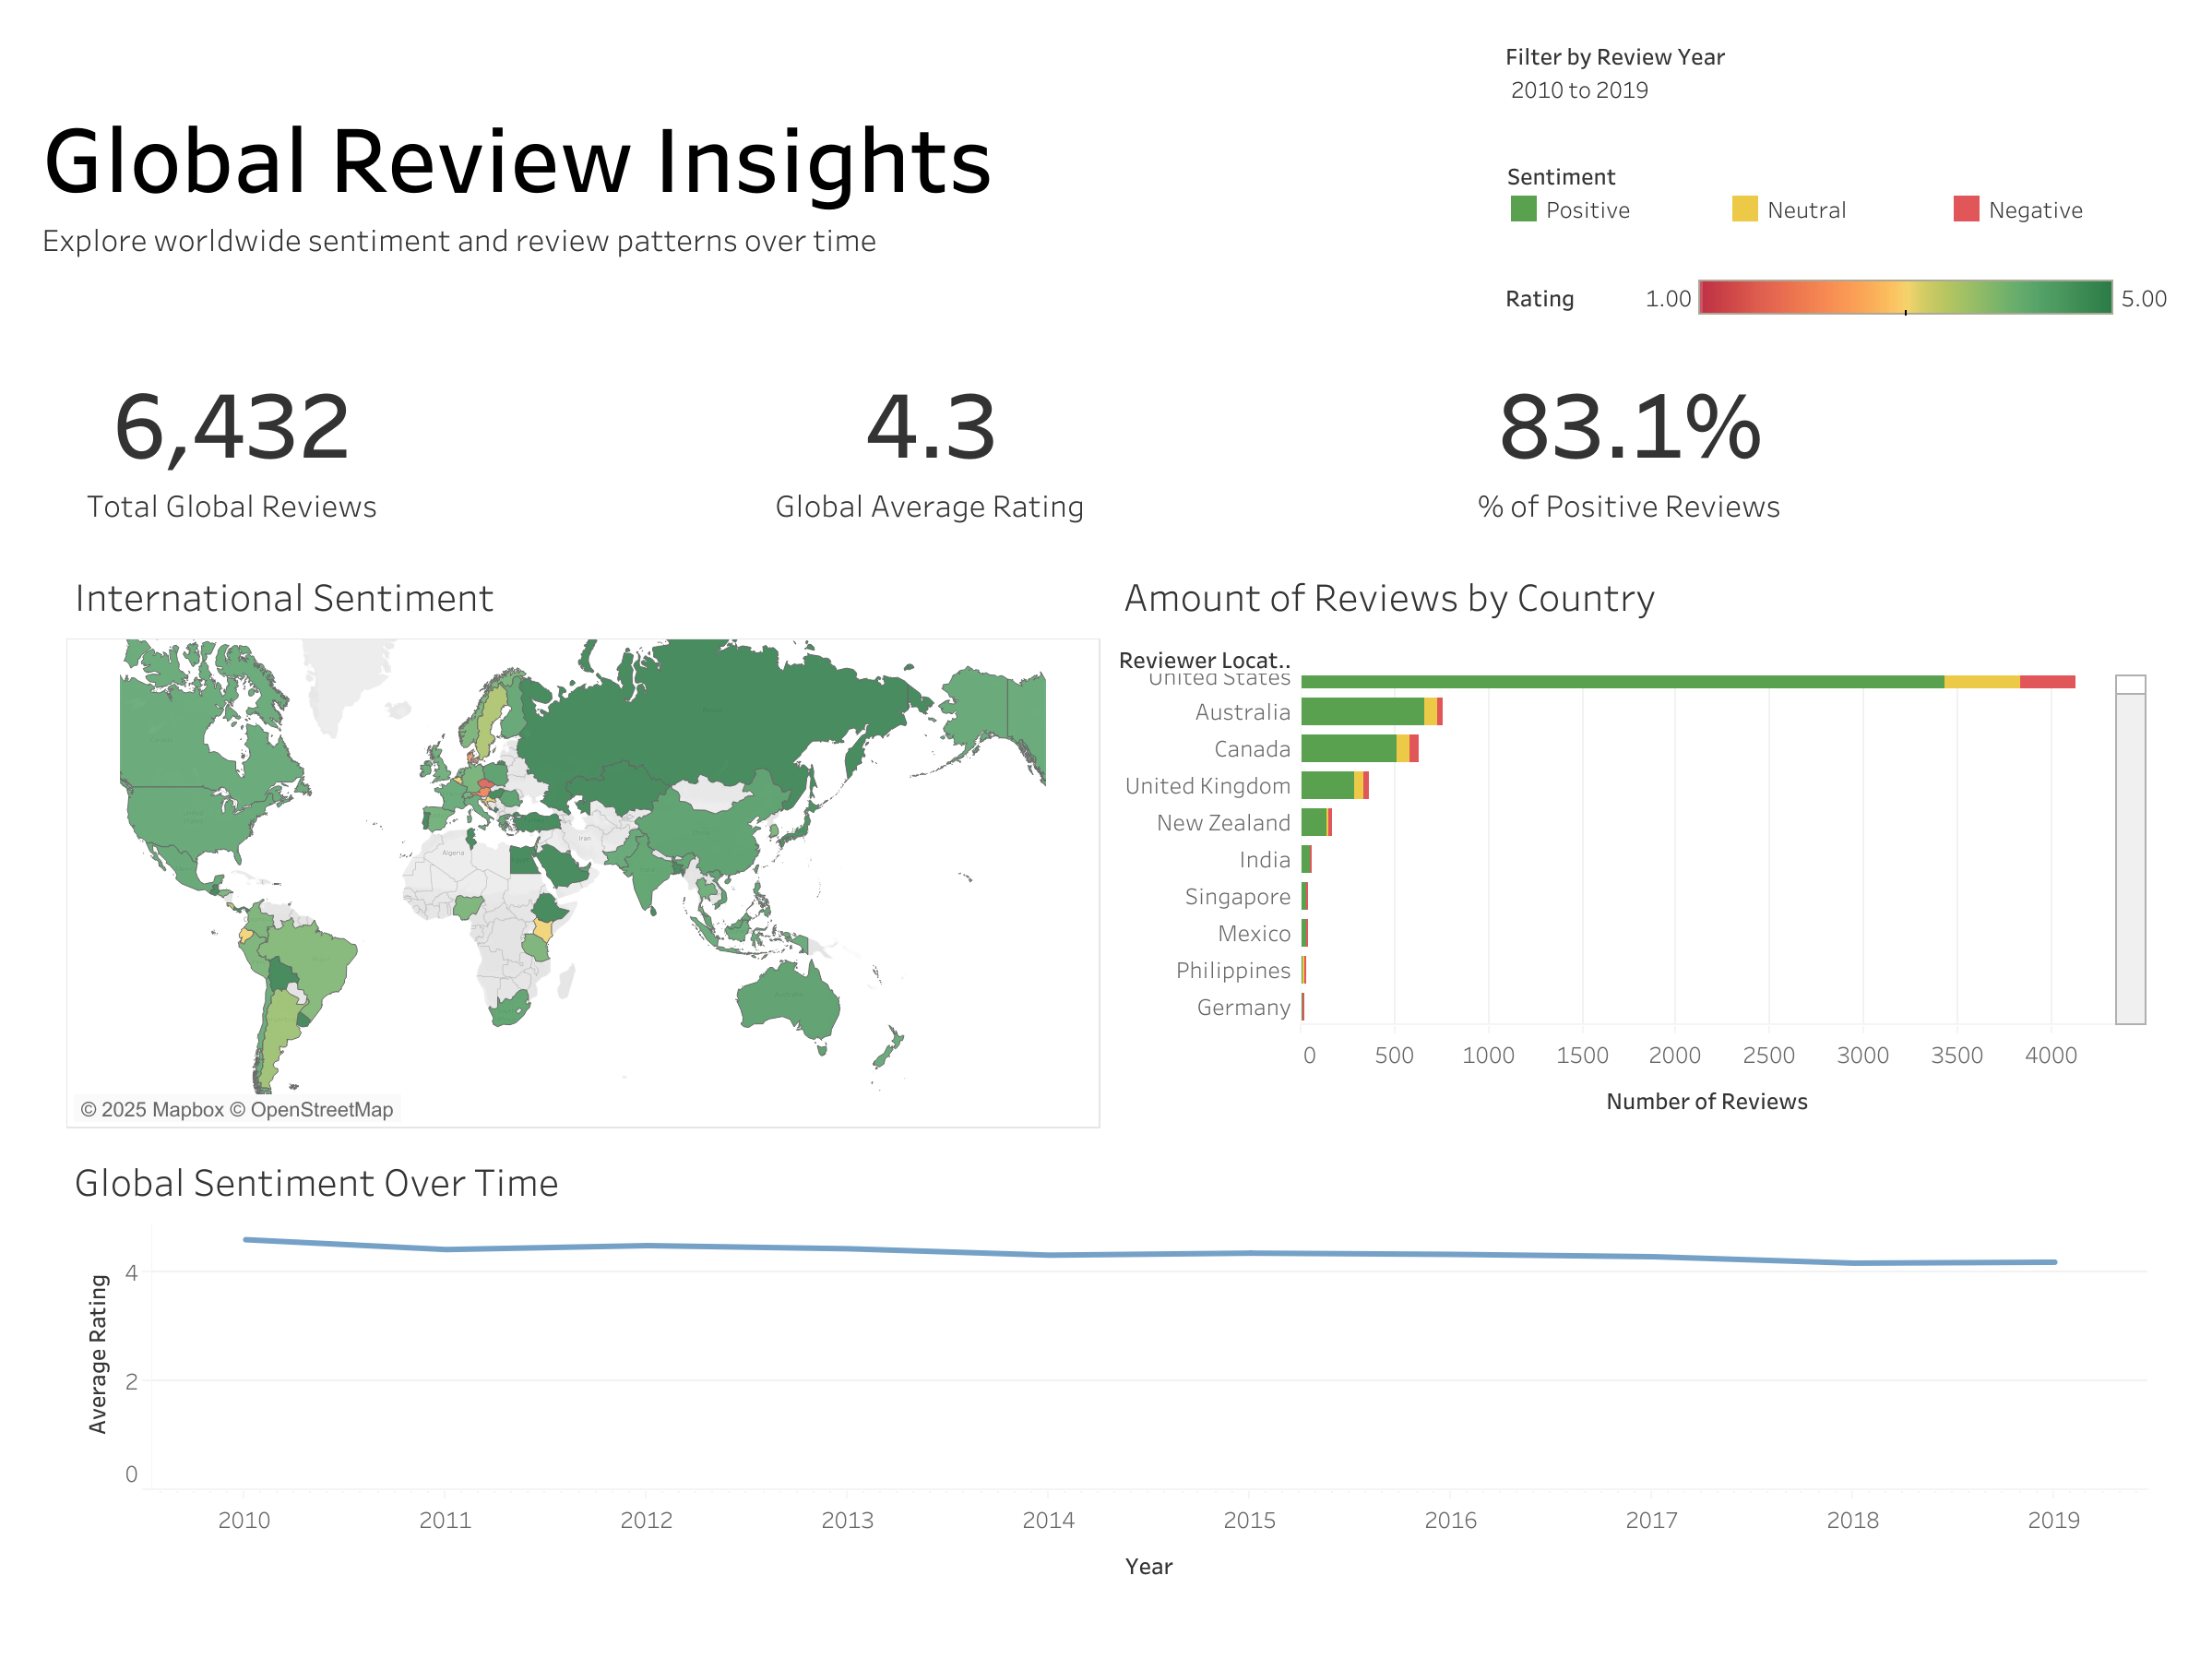

Layout of this report page (visuals, bound fields, positions):
{"tool":"tableau","page":{"name":"Global Overview","canvas":[1200,900],"ordinal":1},"visuals":[{"type":"text","box":[16,16,796.1,159.1]},{"type":"filter","title":"Sentiment by Country","param":"[federated.0jdlttf06a8mla1f0ukgg1rxgpls].[none:Calculation_204139768011210752:qk","box":[812.1,16,371.9,63.8]},{"type":"legend","title":"Reviews by Country","param":"[federated.0jdlttf06a8mla1f0ukgg1rxgpls].[none:Sentiment:nk]","box":[812.1,79.8,371.9,63.8]},{"type":"legend","title":"Sentiment by Country","param":"[federated.0jdlttf06a8mla1f0ukgg1rxgpls].[avg:Rating:qk]","box":[812.1,143.6,371.9,31.4]},{"type":"worksheet","title":"KPI - Total Global Reviews","mark":"Automatic","box":[32,191,379,108]},{"type":"worksheet","title":"KPI - Global Avg. Rating","mark":"Automatic","box":[411,191,379,108]},{"type":"worksheet","title":"KPI - % Positive Sentiment","mark":"Automatic","box":[790,191,378,108]},{"type":"worksheet","title":"Sentiment by Country","mark":"Multipolygon","box":[32,298.9,569,316.9]},{"type":"worksheet","title":"Reviews by Country","mark":"Automatic","rows":["Reviewer_Location"],"cols":["Review_ID"],"box":[601,298.9,567,316.9]},{"type":"worksheet","title":"Global Sentiment Over Time","mark":"Automatic","rows":["Rating"],"cols":["Calculation_2922836197618421760"],"box":[32,615.8,1136,252.2]}]}

Visuals, with their boxes in screenshot pixels (x1, y1, x2, y2), scaled from the page's 1200x900 canvas onto the 2212x1659 screenshot:
text: bbox(30, 30, 1497, 323)
"Sentiment by Country" filter: bbox(1497, 30, 2182, 147)
"Reviews by Country" legend: bbox(1497, 147, 2182, 265)
"Sentiment by Country" legend: bbox(1497, 265, 2182, 323)
"KPI - Total Global Reviews" worksheet: bbox(59, 352, 757, 551)
"KPI - Global Avg. Rating" worksheet: bbox(757, 352, 1457, 551)
"KPI - % Positive Sentiment" worksheet: bbox(1457, 352, 2153, 551)
"Sentiment by Country" worksheet (Multipolygon marks): bbox(59, 551, 1108, 1135)
"Reviews by Country" worksheet: bbox(1108, 551, 2153, 1135)
"Global Sentiment Over Time" worksheet: bbox(59, 1135, 2153, 1600)
